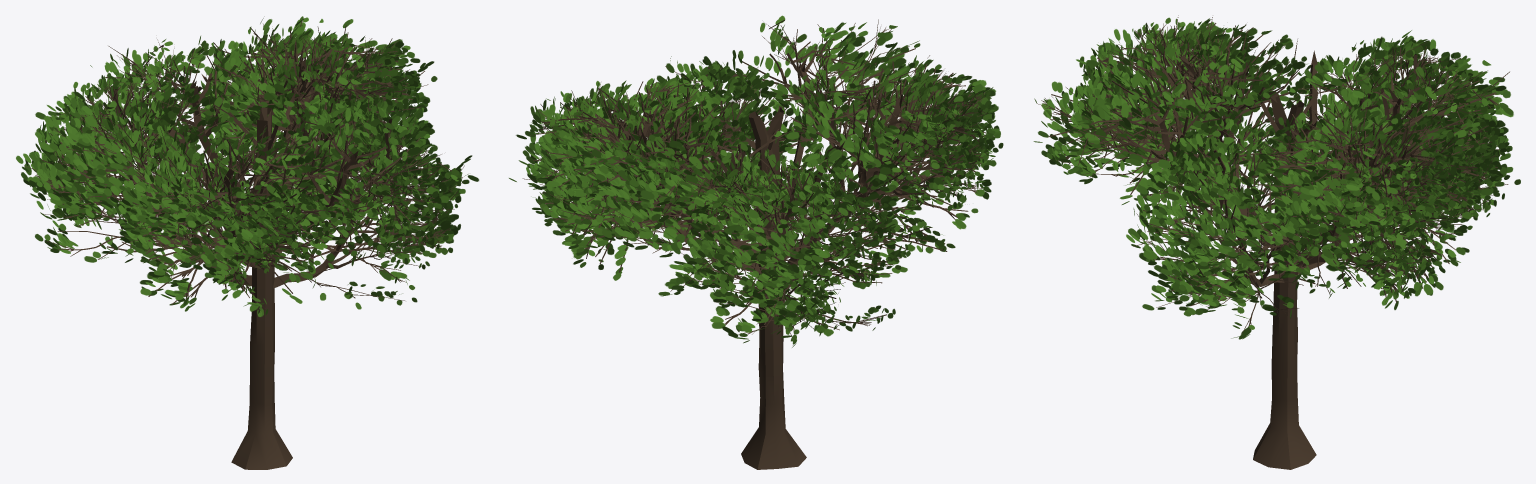
3 renders of one model, left to right at view 1: azimuth 30°, elevation 25°; view 2: azimuth 150°, elevation 25°; view 3: azimuth 270°, elevation 25°, orthographic. The views are drawn at different scales.
Parts seen in each view (by area): view 1: oak 01.001_trunk_Mat.001_0.047; view 2: oak 01.001_trunk_Mat.001_0.047; view 3: oak 01.001_trunk_Mat.001_0.047.
Boxes of the visible parts, x1,y1,x2,y2 form: oak 01.001_trunk_Mat.001_0.047: (16,16,479,469); oak 01.001_trunk_Mat.001_0.047: (509,15,1003,469); oak 01.001_trunk_Mat.001_0.047: (1033,15,1520,469).
Bounding box in the file's own units: 6.23 × 5.6 × 6.53.
2 materials, 1 textured.
